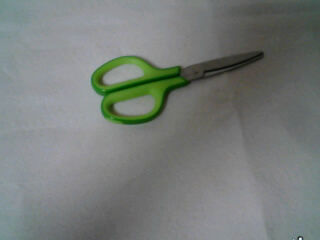003_classes: (84, 44, 269, 127)
